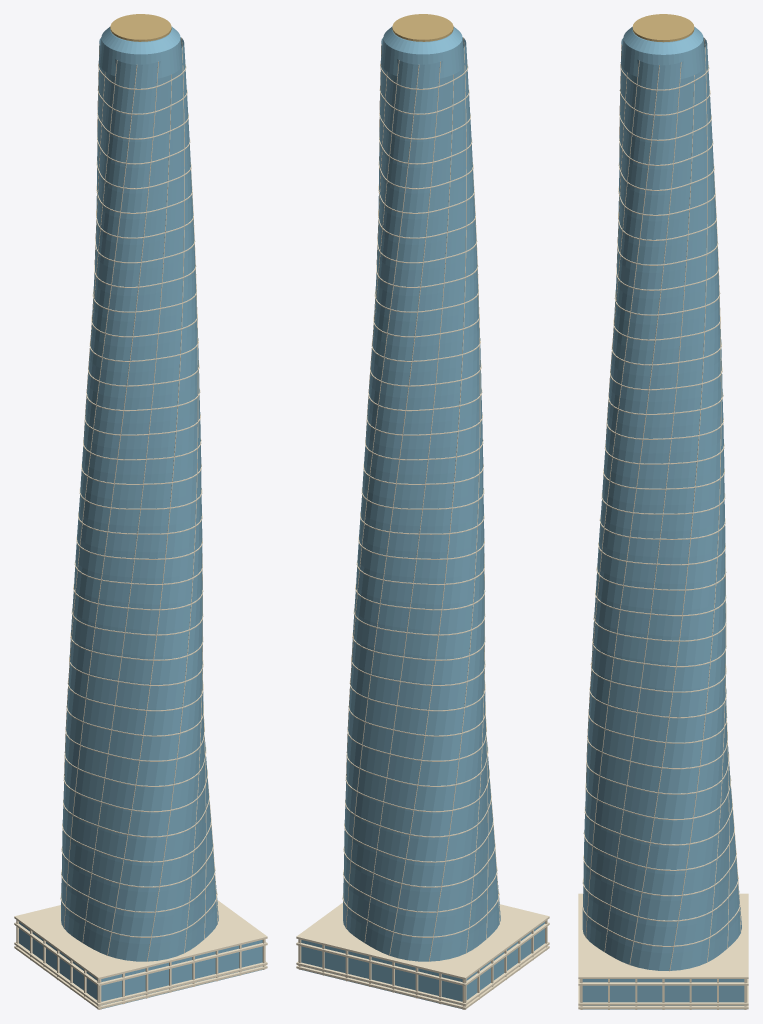
Rendered from shanghai-lod0.glb.
3 renders of one model, left to right at view 1: azimuth 30°, elevation 25°; view 2: azimuth 150°, elevation 25°; view 3: azimuth 270°, elevation 25°, orthographic.
Parts seen in each view (by area): view 1: shanghai_architecture; view 2: shanghai_architecture; view 3: shanghai_architecture.
Part boxes in pixels (box(x1,y1,x2,y2)): shanghai_architecture: box(14, 14, 267, 1009); shanghai_architecture: box(296, 14, 549, 1009); shanghai_architecture: box(578, 14, 748, 1009).
Size of the model in its own units: 21.7 by 114 by 18.7.
